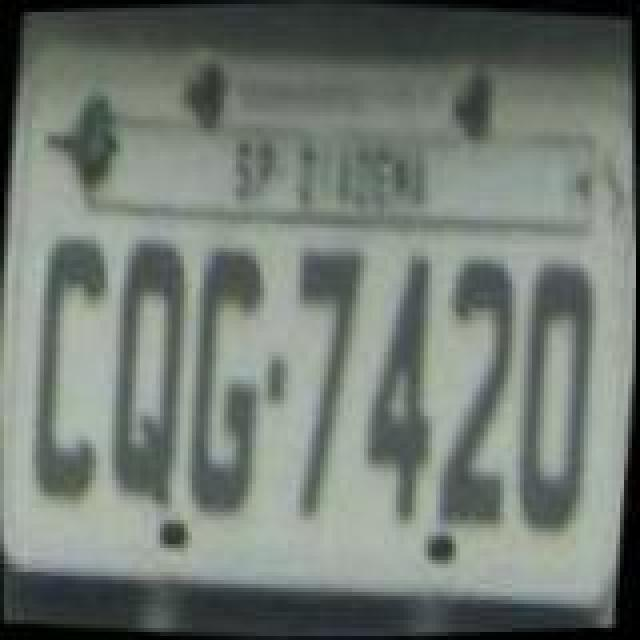2: (424, 248, 532, 528)
4: (350, 250, 454, 526)
7: (264, 240, 372, 524)
C: (16, 228, 124, 508)
G: (168, 236, 276, 520)
O: (500, 256, 608, 536)
Q: (90, 232, 202, 516)
